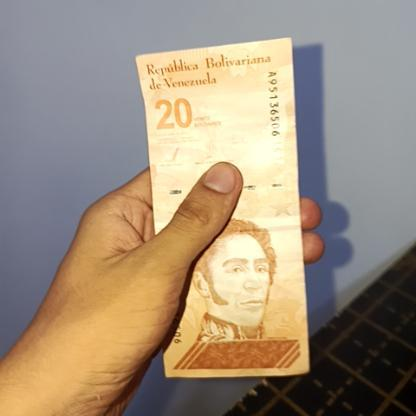twenty-front-vef: (137, 42, 309, 379)
